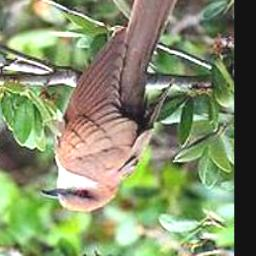Cuckoo: (41, 0, 185, 212)
